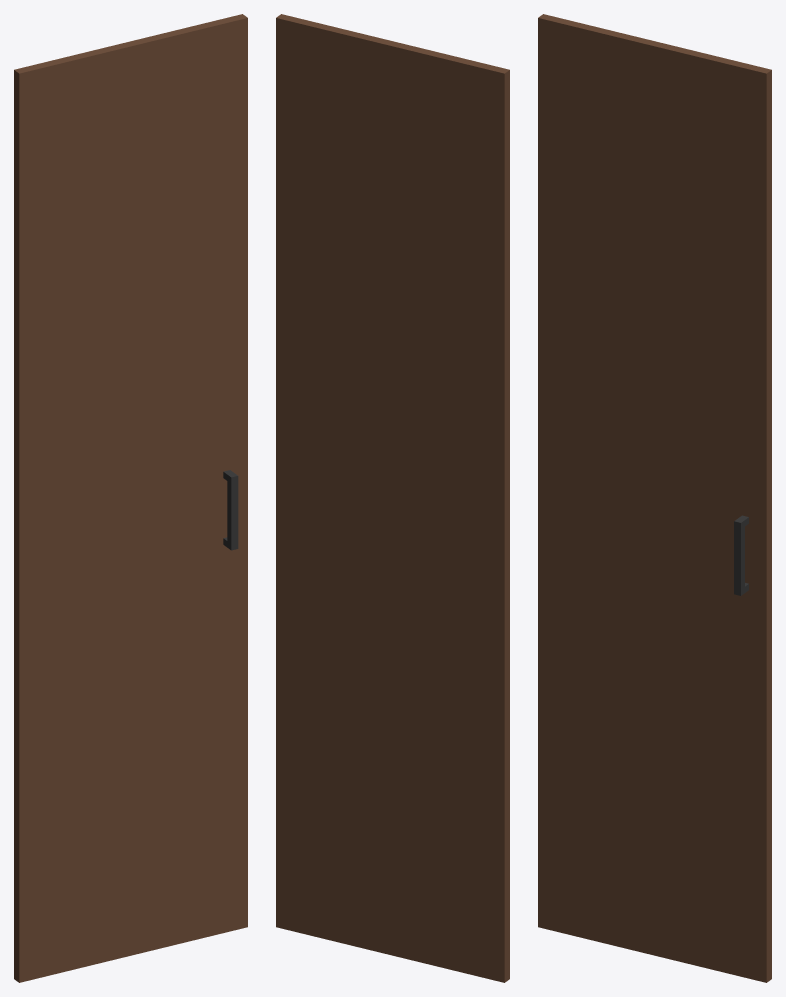
File: Wardrobe1_C3_03.fbx
3 renders of one model, left to right at view 1: azimuth 30°, elevation 25°; view 2: azimuth 150°, elevation 25°; view 3: azimuth 330°, elevation 25°, orthographic.
Parts seen in each view (by area): view 1: Wardrobe1_C3_03; view 2: Wardrobe1_C3_03; view 3: Wardrobe1_C3_03.
Part boxes in pixels (x1=…): Wardrobe1_C3_03: x1=14, y1=14, x2=247, y2=982; Wardrobe1_C3_03: x1=276, y1=14, x2=509, y2=982; Wardrobe1_C3_03: x1=538, y1=14, x2=771, y2=982.
Bounding box in the file's own units: 50 × 190 × 5.02.
